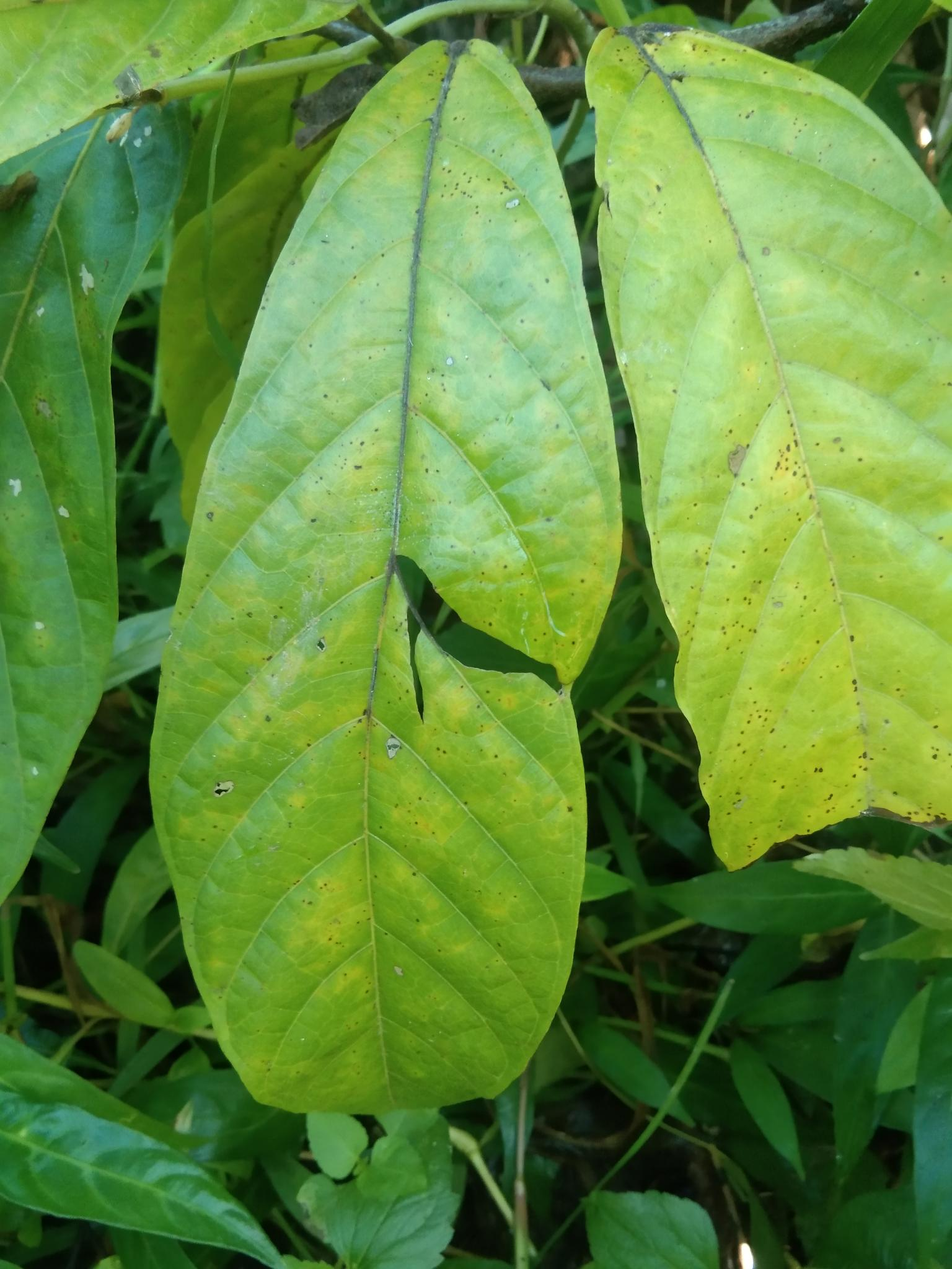Fosforo: (150, 31, 616, 1113), (588, 31, 952, 868)
